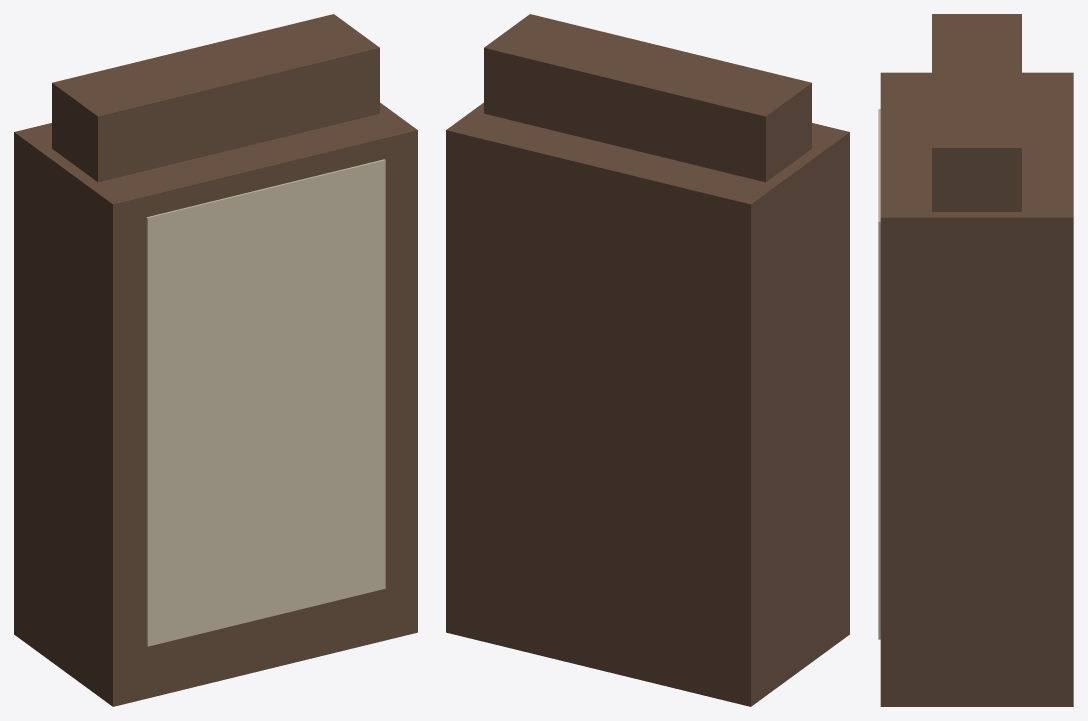
File: pantry-oat-sack.glb
3 renders of one model, left to right at view 1: azimuth 30°, elevation 25°; view 2: azimuth 150°, elevation 25°; view 3: azimuth 270°, elevation 25°, orthographic. The views are drawn at different scales.
Parts seen in each view (by area): view 1: wood, paper; view 2: wood; view 3: wood, paper.
Part boxes in pixels (x1,y1,x2,y2): wood: [14, 14, 417, 706]; paper: [146, 159, 385, 646]; wood: [446, 14, 849, 706]; wood: [880, 14, 1073, 706]; paper: [878, 109, 880, 639].
Size of the model in its own units: 0.16 by 0.285 by 0.091.
